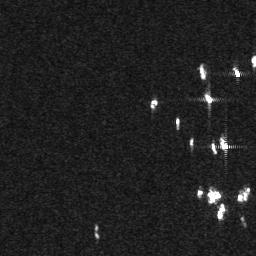ship: (198, 64, 210, 80), (216, 202, 226, 221), (220, 135, 229, 152), (205, 91, 215, 105), (150, 96, 158, 111), (232, 67, 242, 79), (211, 143, 218, 155), (175, 116, 181, 130)
